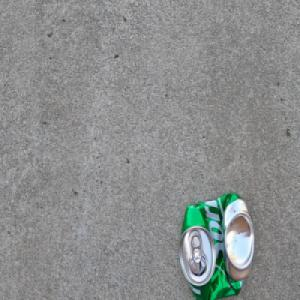SodaCan: (178, 191, 255, 300)
